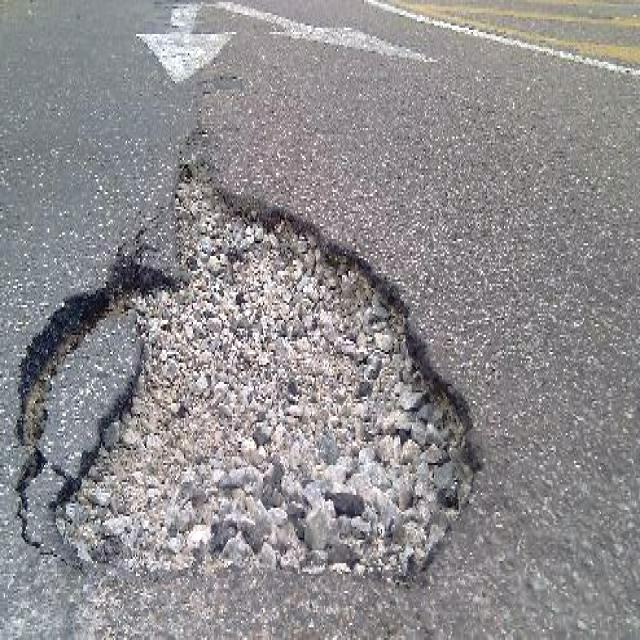Pothole: (13, 139, 488, 587)
